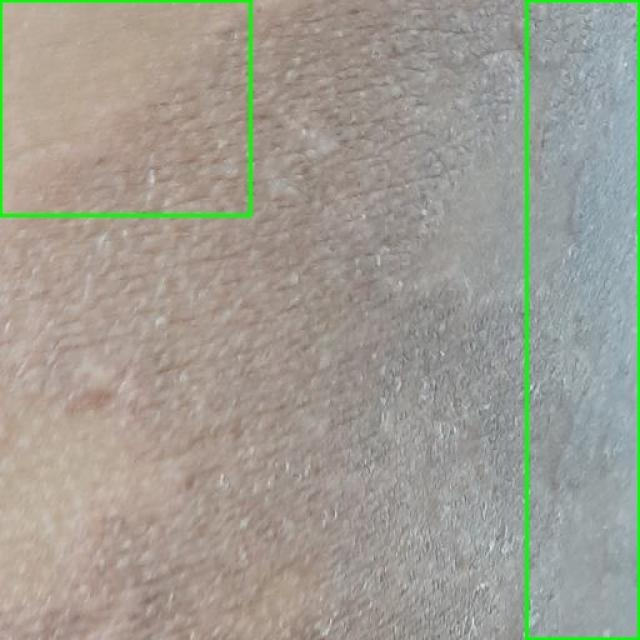Tinea Corporis: (526, 0, 639, 639), (0, 0, 250, 215)
